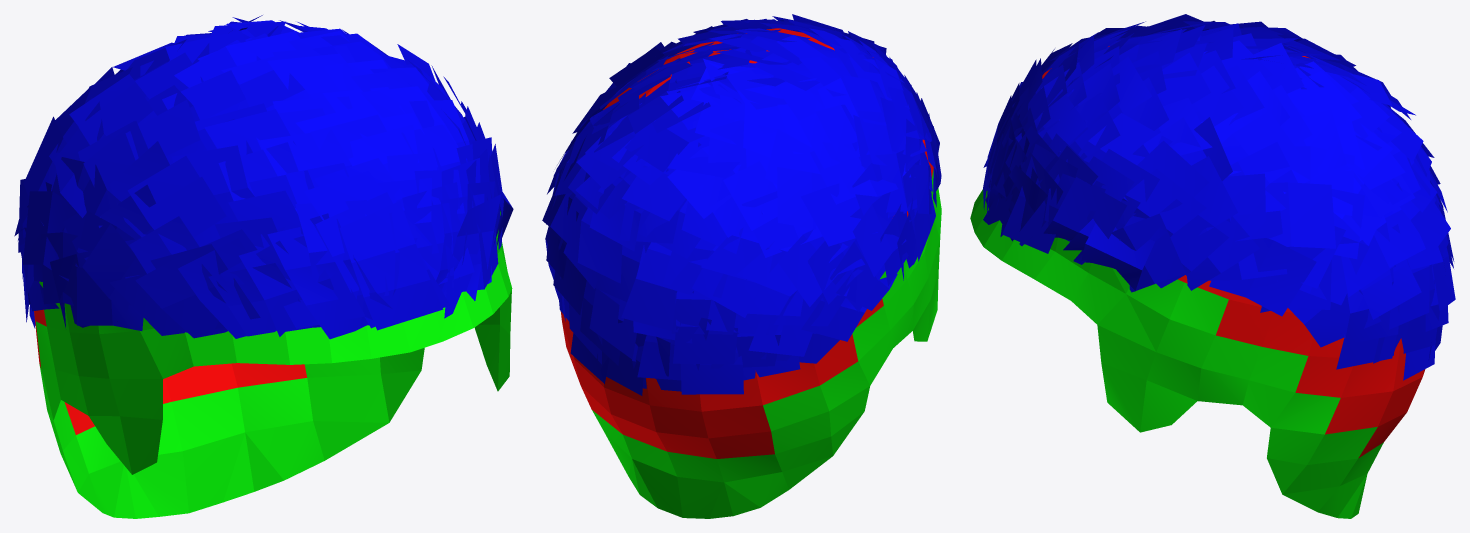
The model's file is hair_003.obj.
3 views of the same model, side by side, from view 1: azimuth 30°, elevation 25°; view 2: azimuth 150°, elevation 25°; view 3: azimuth 270°, elevation 25° (orthographic). The views are drawn at different scales.
Size of the model in its own units: 17.04 by 21.09 by 20.01.
